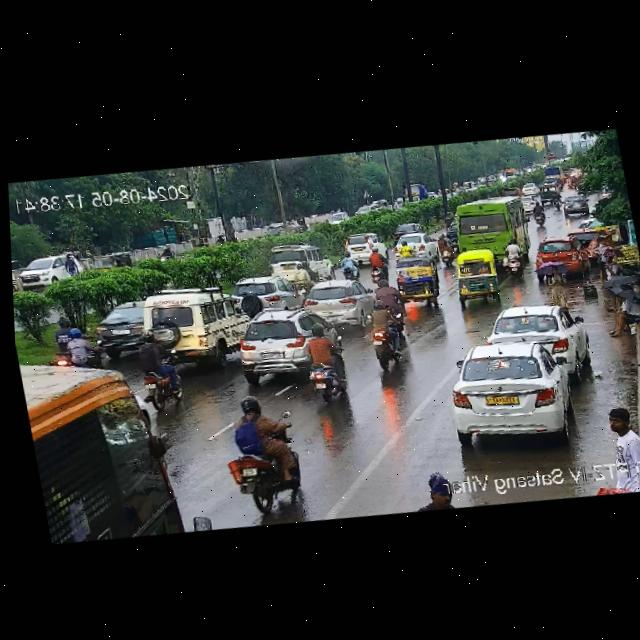bus: (18, 345, 183, 549), (453, 195, 531, 273)
car: (435, 333, 592, 453), (132, 276, 255, 366), (227, 300, 345, 385), (484, 298, 586, 370), (300, 274, 379, 331), (446, 247, 510, 309), (92, 295, 153, 354), (262, 241, 329, 290), (390, 254, 446, 311), (12, 253, 85, 295), (234, 271, 302, 314), (529, 235, 590, 276), (340, 231, 383, 265), (391, 230, 436, 261), (89, 250, 136, 277), (264, 219, 308, 242), (556, 192, 590, 219), (389, 221, 426, 241), (536, 185, 561, 205), (325, 211, 351, 230), (352, 204, 376, 219)
motorcycle: (223, 393, 309, 498), (136, 332, 192, 406), (296, 322, 348, 400), (362, 298, 412, 372), (53, 325, 110, 370), (501, 238, 529, 281), (364, 249, 389, 289), (336, 249, 360, 282), (154, 241, 182, 267), (529, 199, 551, 232), (435, 231, 457, 262), (211, 230, 231, 251)
person: (591, 404, 640, 497), (406, 470, 460, 514), (600, 286, 640, 336), (540, 260, 568, 307)
truck: (397, 178, 431, 207)
